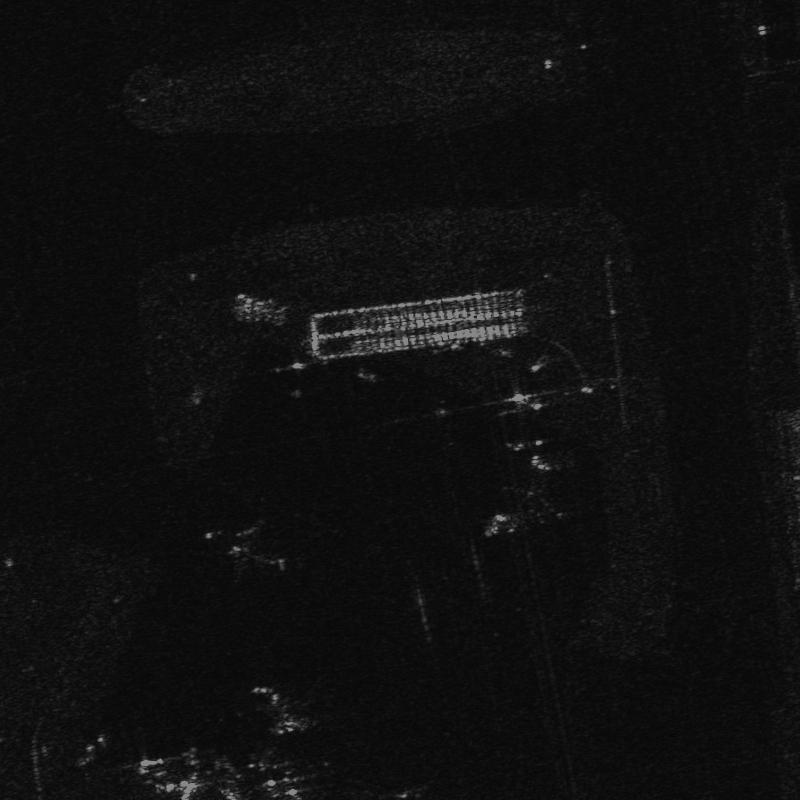Boeing787: (489, 452, 570, 536)
other: (203, 517, 288, 588)
